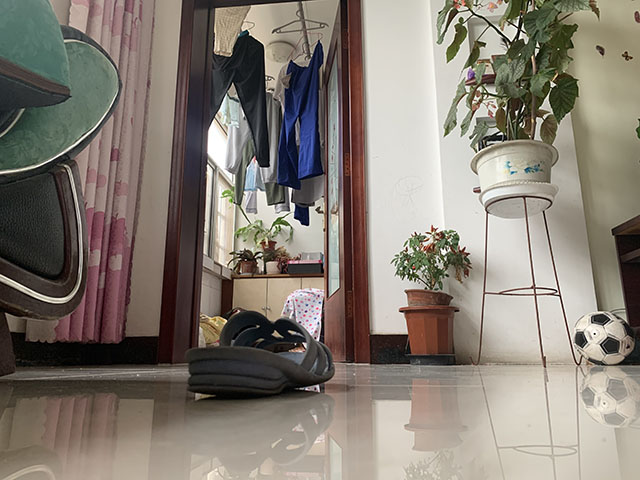curtain: (24, 1, 159, 346)
slippers: (184, 309, 336, 401)
